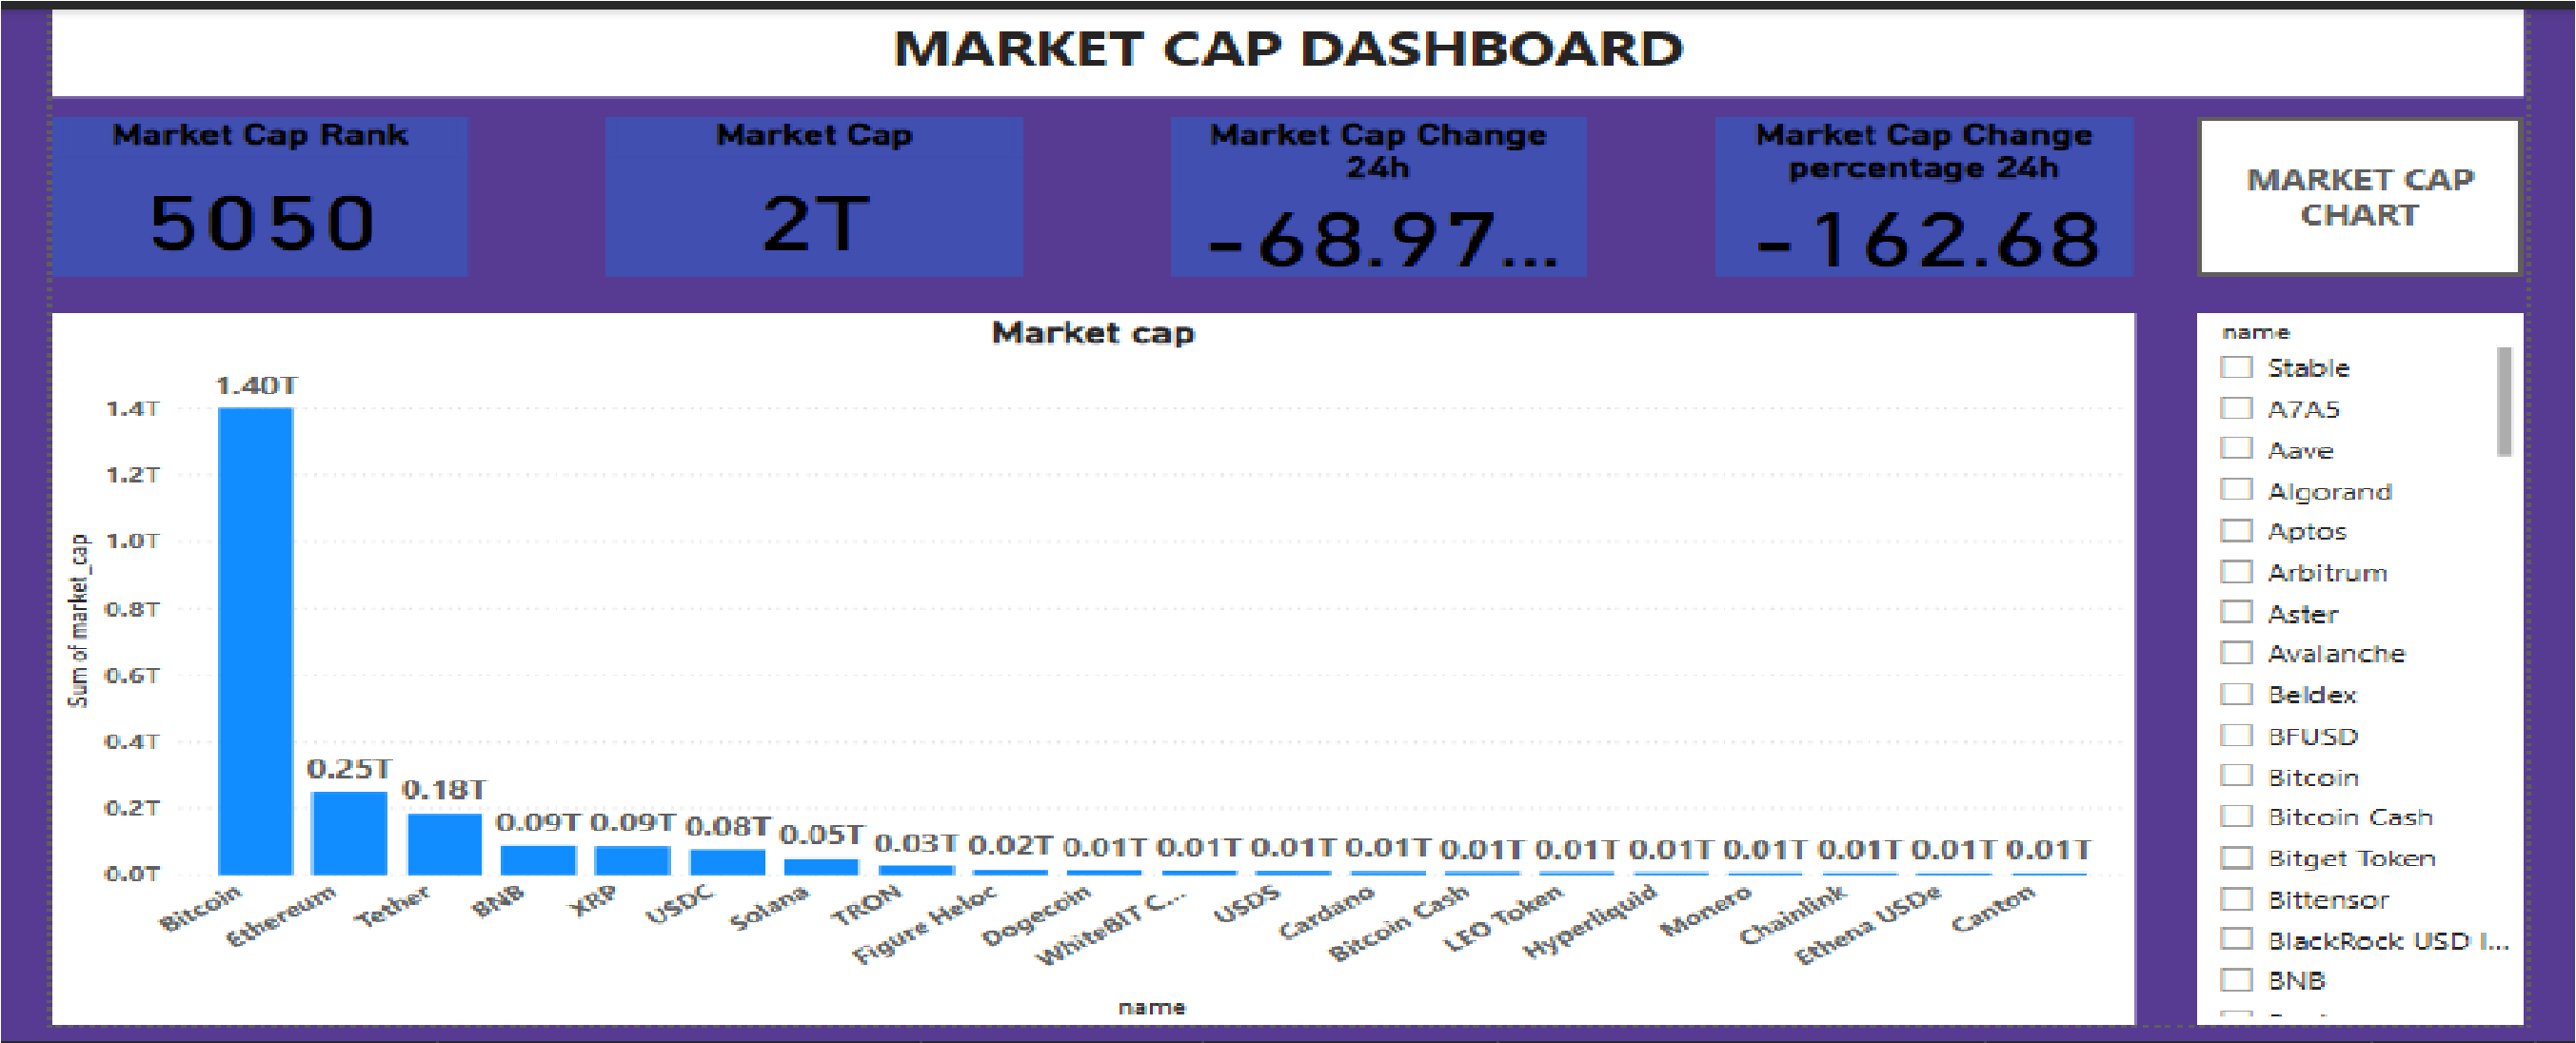

The page's visual inventory and layout, read from the dashboard file:
{"tool":"powerbi","page":{"name":"Market Cap Dashboard","canvas":[1280,720],"ordinal":5},"visuals":[{"type":"textbox","box":[0,0,1279.8,61.7],"z":0},{"type":"card","title":"Market Cap Rank","fields":{"Values":["Sum(cryptobi.market_cap_rank)"]},"box":[0,76.4,214.5,113.1],"z":1000},{"type":"card","title":"Market Cap Change 24h","fields":{"Values":["Sum(cryptobi.market_cap_change_24h)"]},"box":[578.9,76.4,216,113.1],"z":2000},{"type":"card","title":"Market Cap Change percentage 24h","fields":{"Values":["Sum(cryptobi.market_cap_change_percentage_24h)"]},"box":[861.1,76.4,217.5,113.1],"z":3000},{"type":"card","title":"Market Cap","fields":{"Values":["Sum(cryptobi.market_cap)"]},"box":[286.5,76.4,216,113.1],"z":4000},{"type":"actionButton","box":[1110.9,76.4,169,113.1],"z":5000},{"type":"clusteredColumnChart","title":"Market  cap ","fields":{"Category":["cryptobi.name"],"Y":["Sum(cryptobi.market_cap)"]},"box":[0,216,1078.5,504],"z":6000},{"type":"slicer","fields":{"Values":["cryptobi.name"]},"box":[1110.9,216,169,504],"z":7000}]}

Visuals, with their boxes on the page's 1280x720 design canvas (x1, y1, x2, y2). These are canvas units, not pixel positions in the 2576x1043 screenshot, which may show the page scaled, cropped or inside an application window:
textbox: bbox=(0, 0, 1280, 62)
"Market Cap Rank" card: bbox=(0, 76, 214, 190)
"Market Cap Change 24h" card: bbox=(579, 76, 795, 190)
"Market Cap Change percentage 24h" card: bbox=(861, 76, 1079, 190)
"Market Cap" card: bbox=(286, 76, 502, 190)
actionButton: bbox=(1111, 76, 1280, 190)
"Market  cap " clusteredColumnChart: bbox=(0, 216, 1078, 720)
slicer - cryptobi.name: bbox=(1111, 216, 1280, 720)
